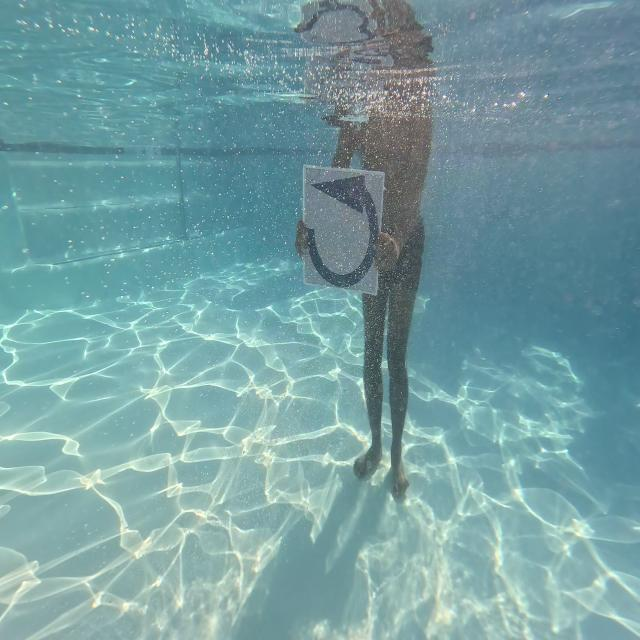blue_side: (299, 158, 382, 295)
